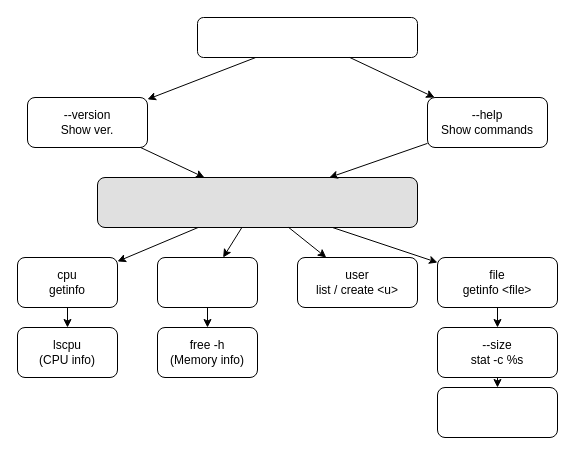
Some shapes in this 575 by 455 pixel diagram are drawn without their labels. The shapes that lost their labels are listed below. From the top down, each one's centre as x and y in pixels, then its label:
the point at 307,37: User runs internsctl
the point at 257,202: Main Commands
the point at 207,282: memory getinfo
the point at 497,412: --permissions stat -c %A
